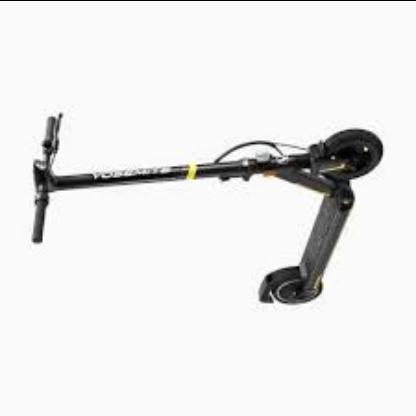bike: (27, 113, 385, 307)
